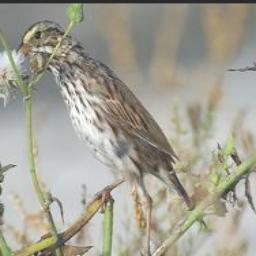Sparrow: (14, 18, 208, 229)
